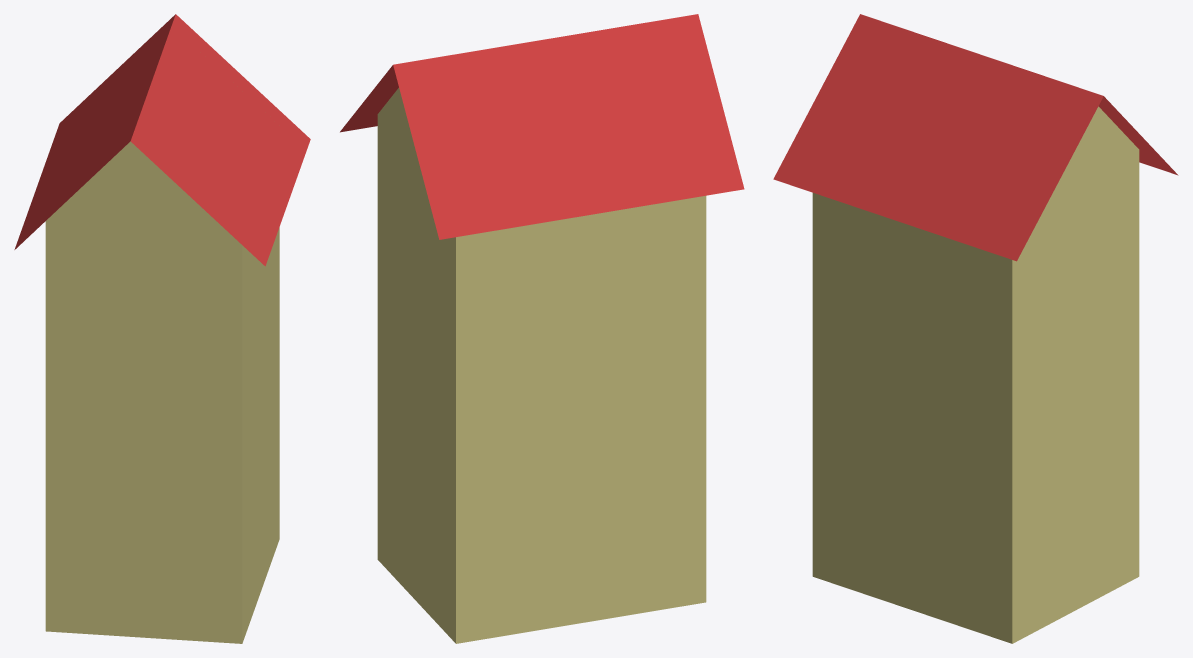
3 views of the same model, side by side, from view 1: azimuth 30°, elevation 25°; view 2: azimuth 150°, elevation 25°; view 3: azimuth 270°, elevation 25° (orthographic). The views are drawn at different scales.
Bounding box in the file's own units: 7.07 × 7.22 × 10.18.
